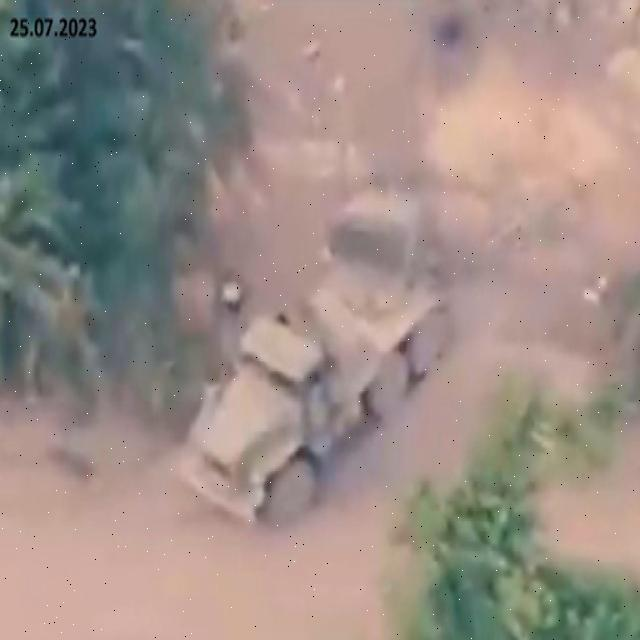MLRS: (174, 177, 448, 534)
